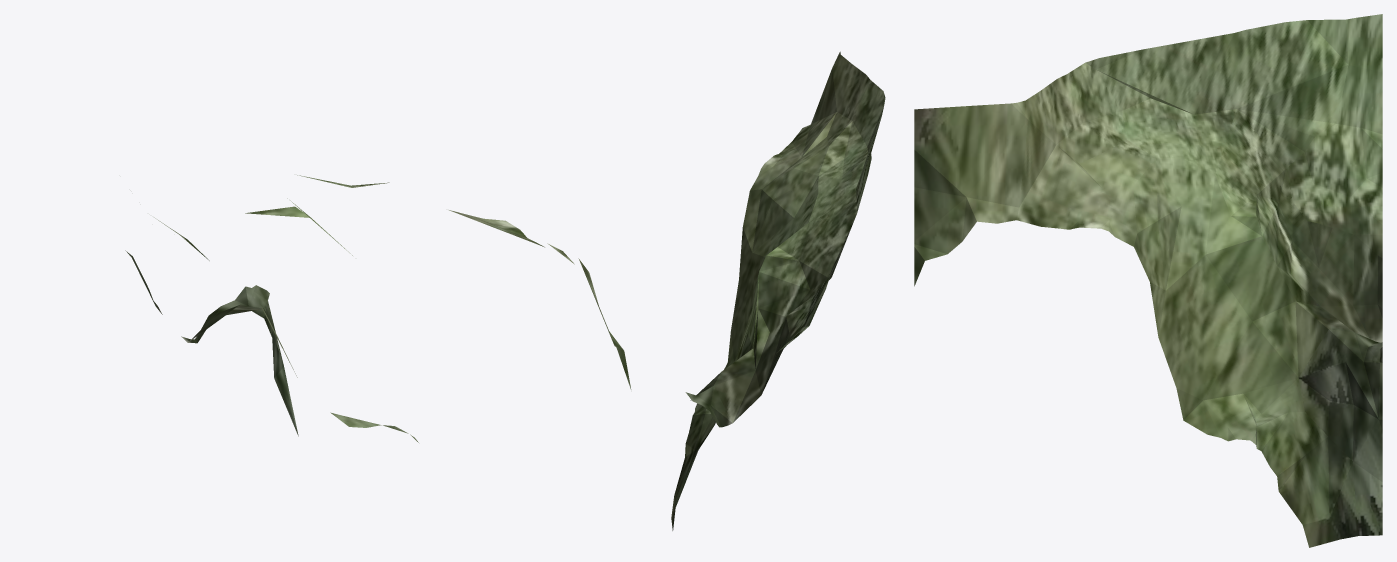
The picture shows the model from 3 angles, left to right: view 1: azimuth 30°, elevation 25°; view 2: azimuth 150°, elevation 25°; view 3: azimuth 270°, elevation 25°; orthographic projection. The views are drawn at different scales.
Bounding box in the file's own units: 1.63 × 2.95 × 2.95.
2 materials, 2 textured.
